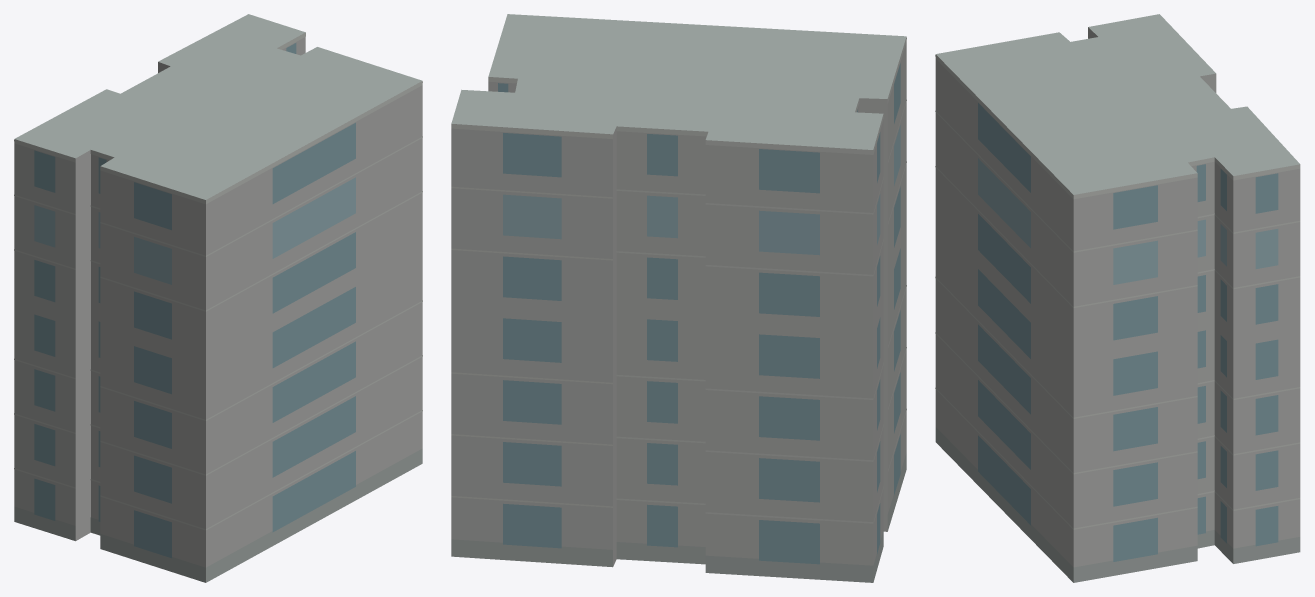
Rendered from survey-upis-32709316.glb.
3 renders of one model, left to right at view 1: azimuth 30°, elevation 25°; view 2: azimuth 150°, elevation 25°; view 3: azimuth 270°, elevation 25°, orthographic. The views are drawn at different scales.
Parts seen in each view (by area): view 1: survey-upis-32709316.tmp; view 2: survey-upis-32709316.tmp; view 3: survey-upis-32709316.tmp.
Boxes of the visible parts, box(x1,y1,x2,y2) form: survey-upis-32709316.tmp: box(14, 14, 422, 582); survey-upis-32709316.tmp: box(451, 14, 906, 582); survey-upis-32709316.tmp: box(935, 14, 1300, 582).
Size of the model in its own units: 21.74 by 21.7 by 18.52.
